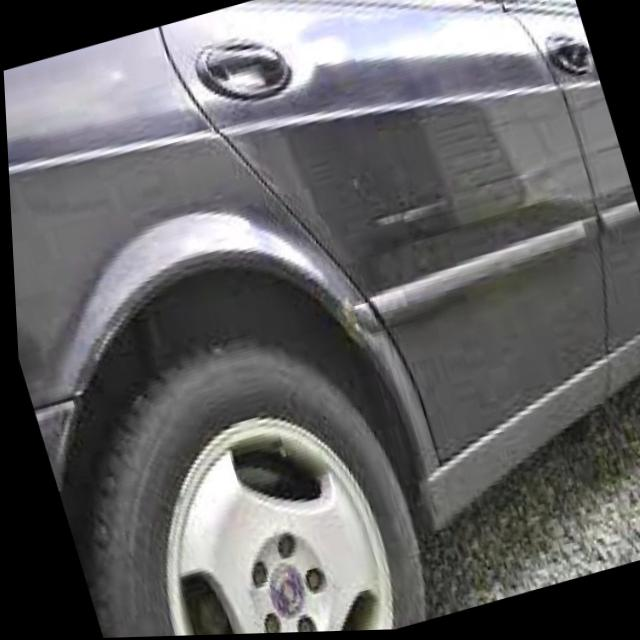Car-Damage: (359, 136, 623, 240), (305, 242, 431, 385)
